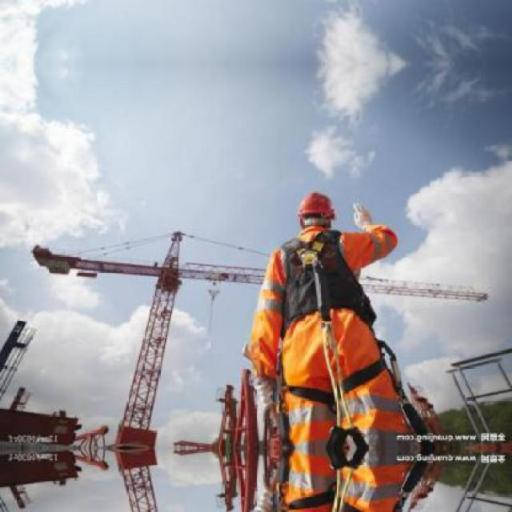helmet: (288, 184, 342, 226)
vest: (247, 225, 398, 405)
